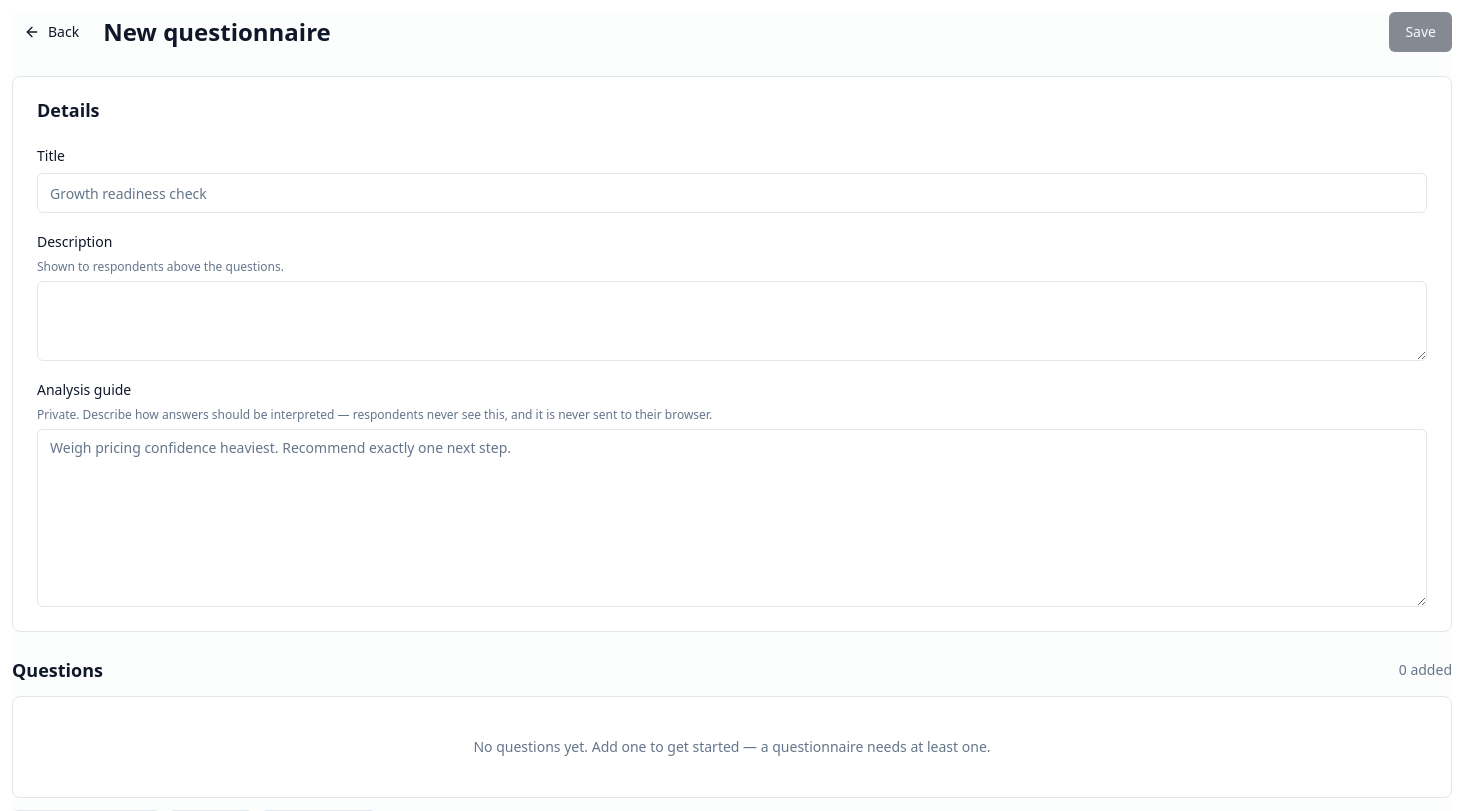
Test: BuilderPage validation › requires at least one question
In the field labelled "Title": (732, 193) [37,173,1427,213], type "Growth check"
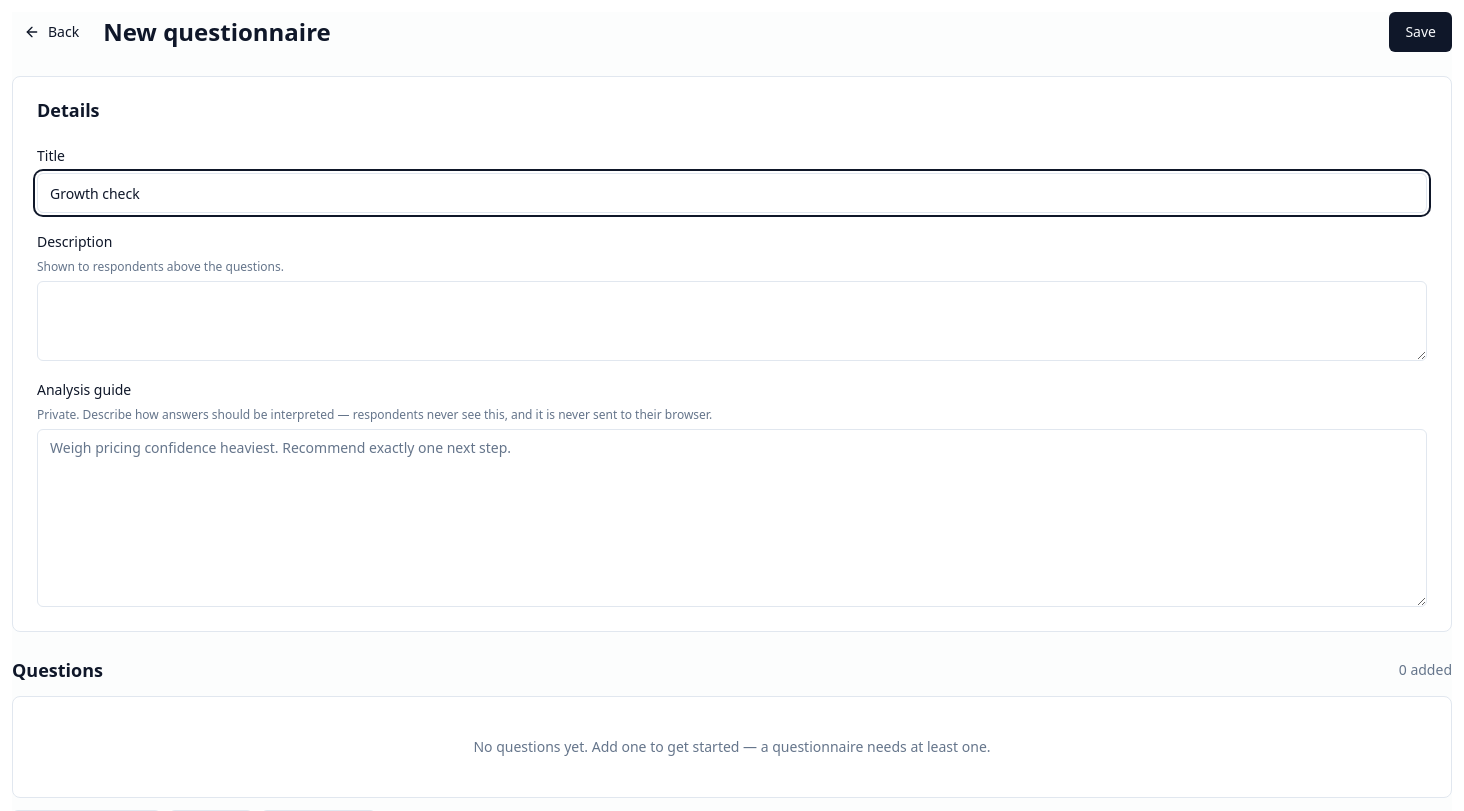
Click the button "Save": (1421, 32) [1389,12,1452,52]
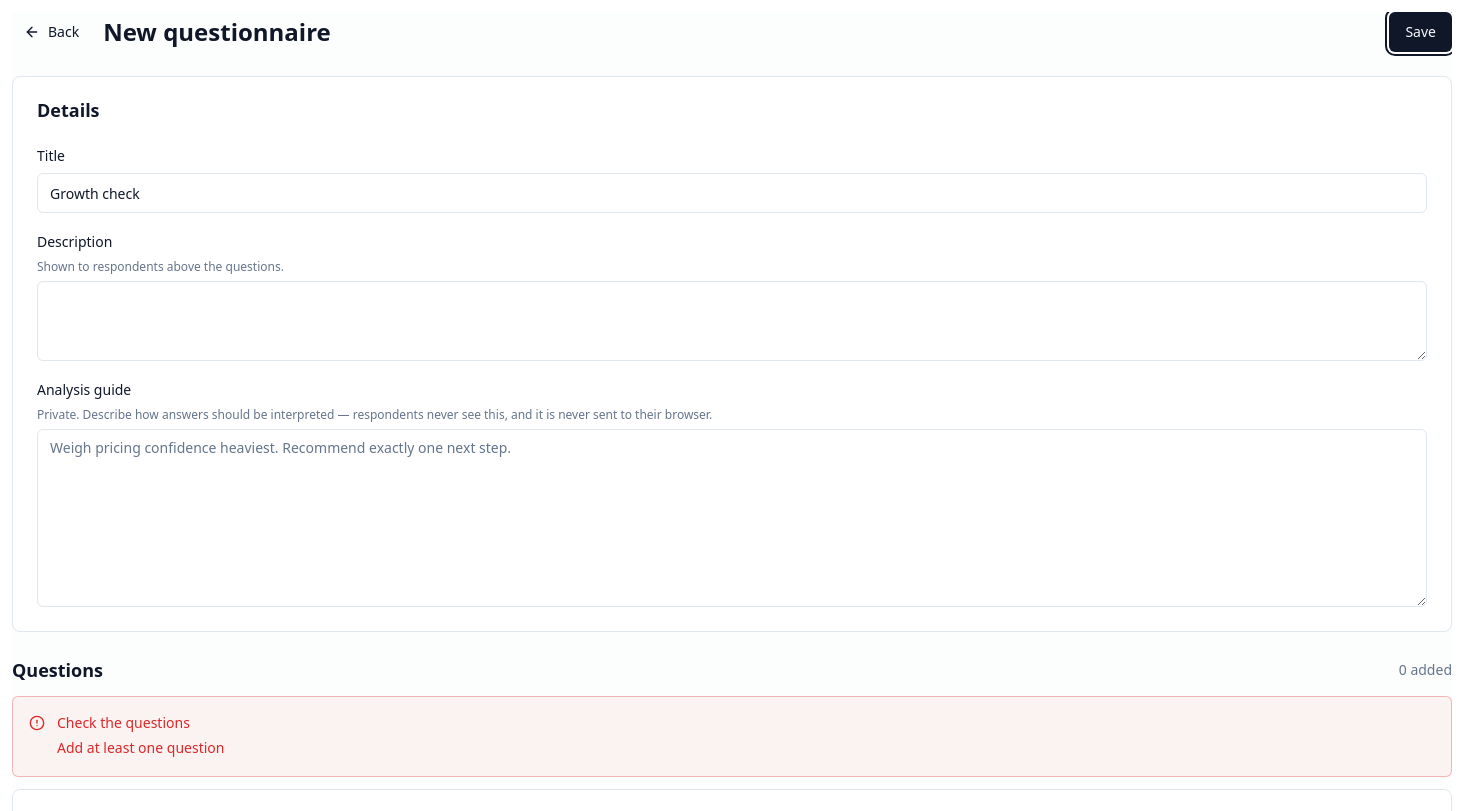
Expected: the text "Add at least one question" is shown, [57,737,224,760]
